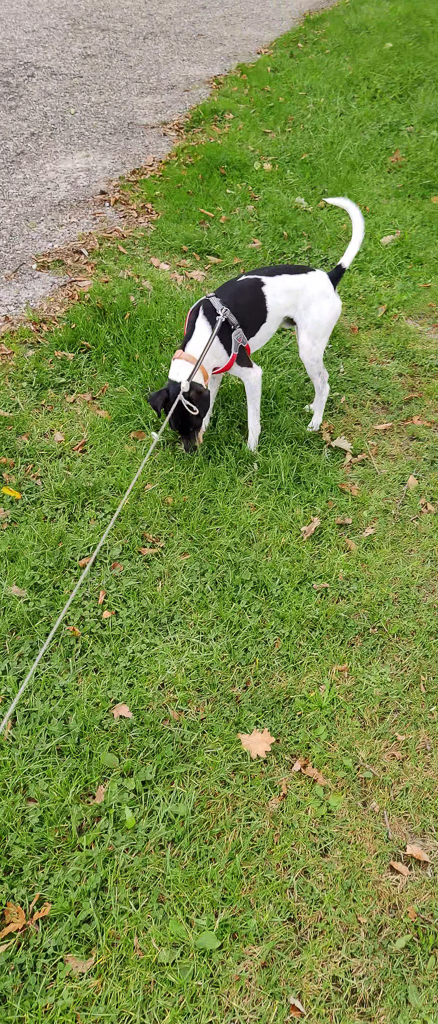Dog: (138, 190, 369, 473)
